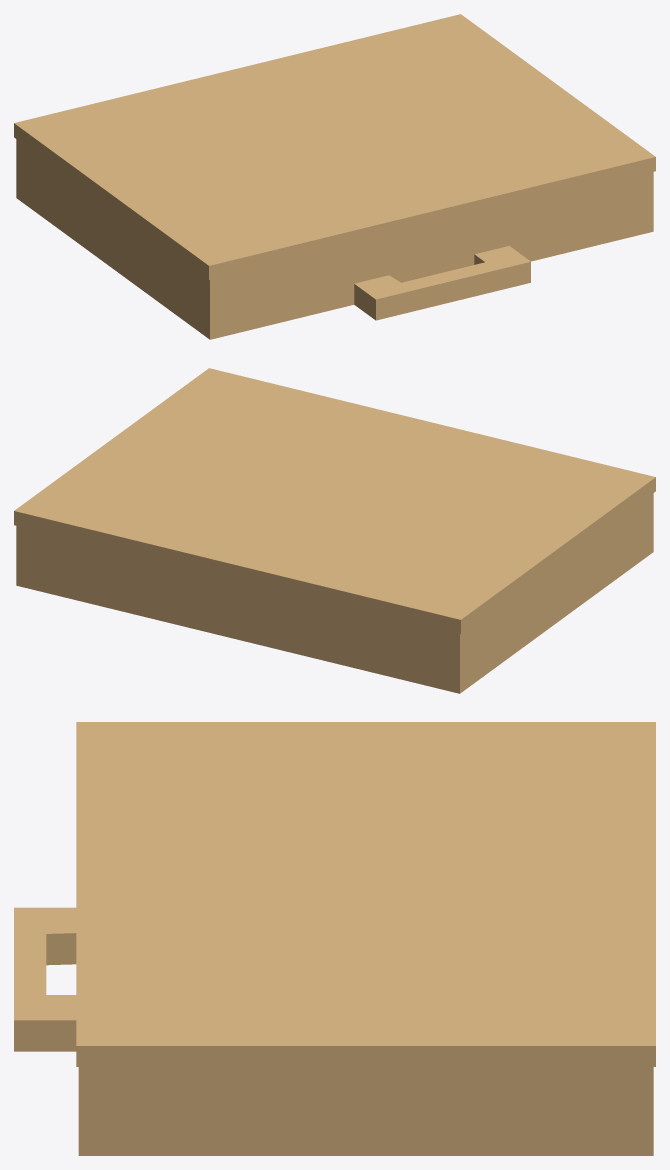
The model's file is S_MalletteH.fbx.
3 renders of one model, top to bottom at view 1: azimuth 30°, elevation 25°; view 2: azimuth 150°, elevation 25°; view 3: azimuth 270°, elevation 25°, orthographic. The views are drawn at different scales.
Visible parts, largest first — view 1: S_MalletteH.002; view 2: S_MalletteH.002; view 3: S_MalletteH.002.
Part boxes in pixels (<box>): S_MalletteH.002: <box>14,14,655,339</box>; S_MalletteH.002: <box>14,368,655,693</box>; S_MalletteH.002: <box>14,722,655,1155</box>.
Bounding box in the file's own units: 52.41 × 8.4 × 43.9.
